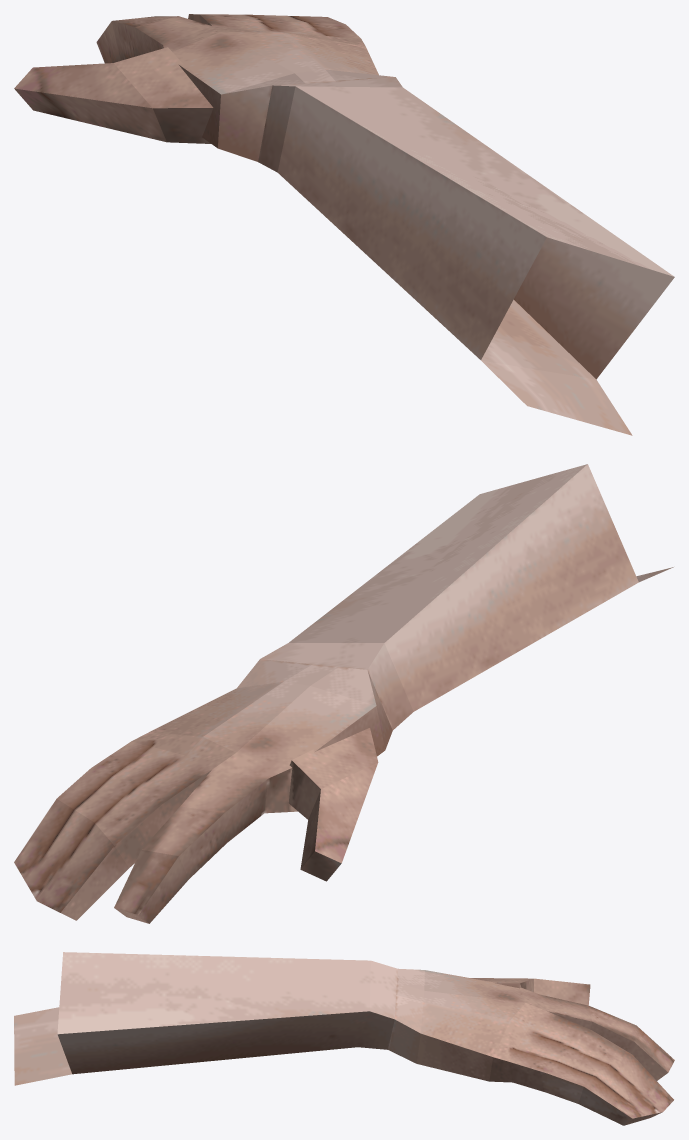
The model's file is Hand_Open.fbx.
3 views of the same model, one above another, from view 1: azimuth 30°, elevation 25°; view 2: azimuth 150°, elevation 25°; view 3: azimuth 270°, elevation 25° (orthographic). The views are drawn at different scales.
Visible parts, largest first — view 1: Hand_Open_Mesh; view 2: Hand_Open_Mesh; view 3: Hand_Open_Mesh.
Boxes of the visible parts, left/top/right/bottom form: Hand_Open_Mesh: left=14, top=14, right=674, bottom=435; Hand_Open_Mesh: left=14, top=464, right=673, bottom=923; Hand_Open_Mesh: left=14, top=952, right=674, bottom=1125.
Bounding box in the file's own units: 0.2179 × 0.1232 × 0.5962.
Materials: 1 (1 with a texture image).
